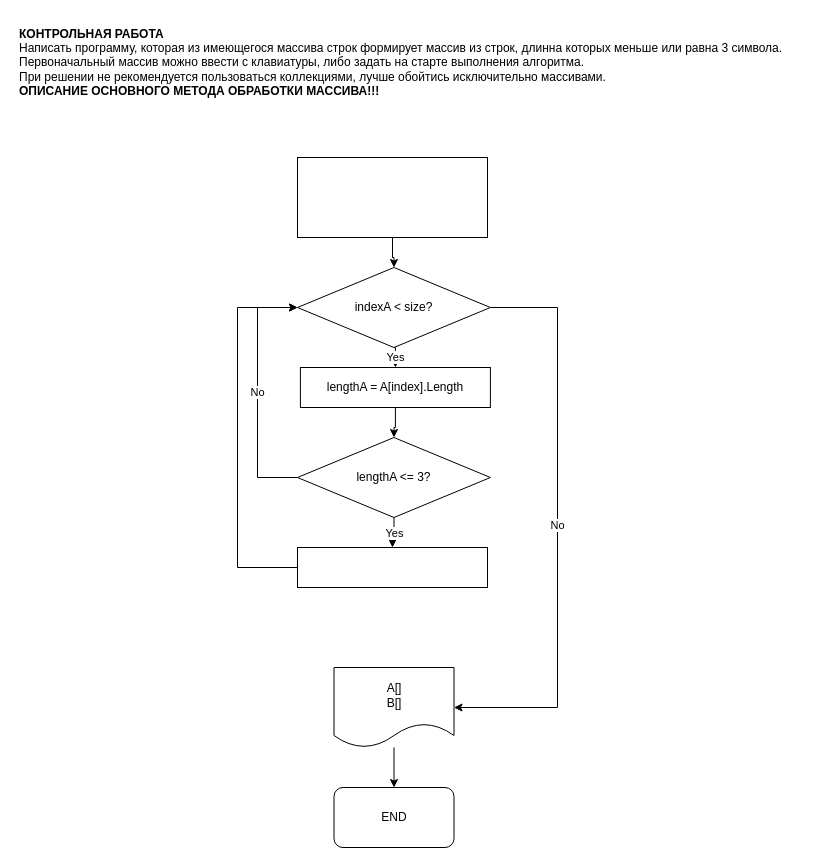
Image size: 824x865. Some labels were removed from this diagram. Each missing label, with the box of its shape:
A[size] indexA =0 indexB =0 B[count] lengthA: (296, 156, 488, 238)
B[indexB] = A[indexA] indexB = indexB + 1: (296, 546, 488, 588)
